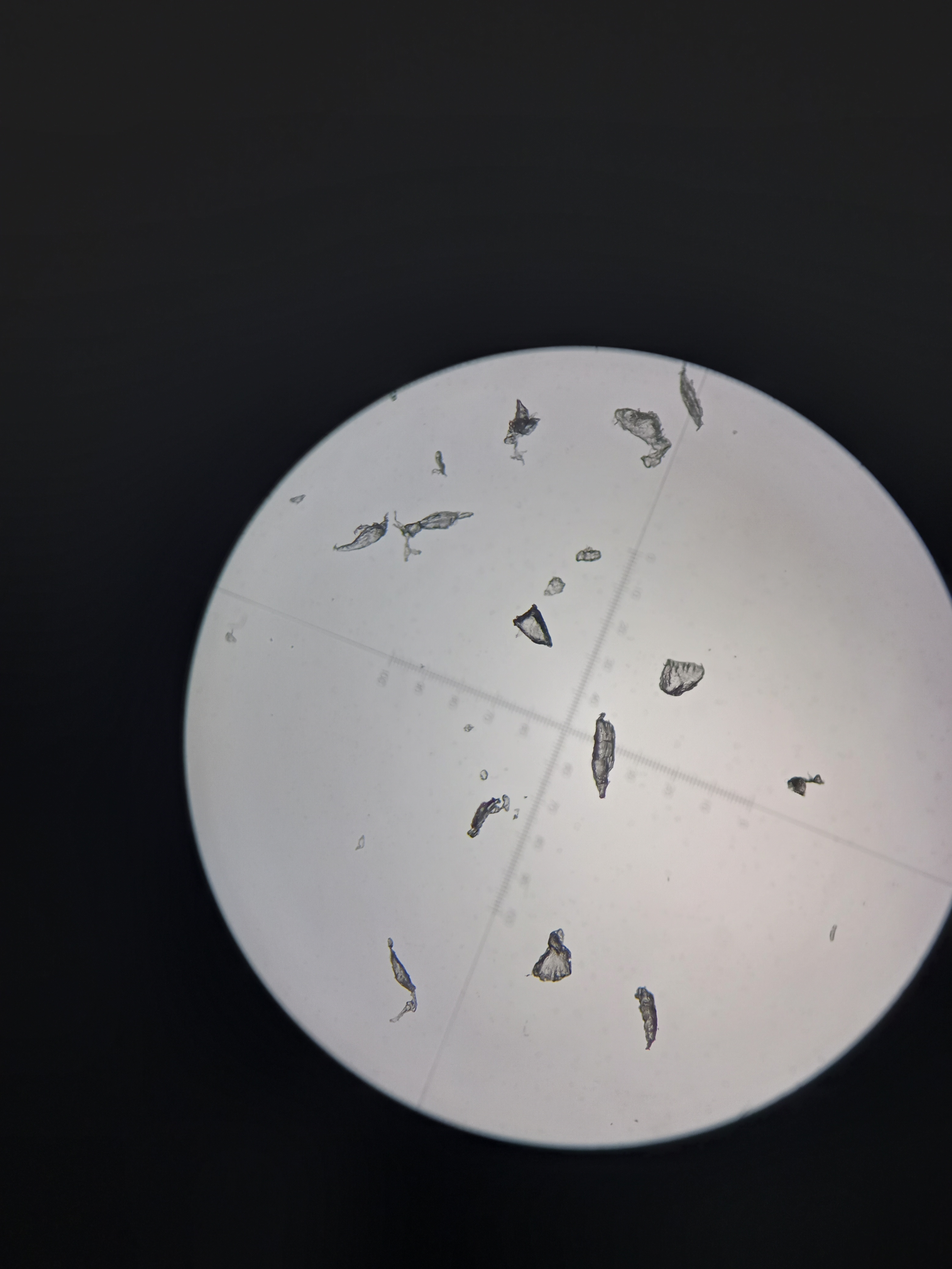microplastic: (394, 510, 476, 563), (612, 405, 672, 467), (384, 937, 420, 1023), (525, 927, 575, 985), (503, 397, 540, 466), (334, 514, 391, 555), (592, 711, 618, 800), (469, 794, 514, 841), (658, 657, 709, 698), (676, 365, 707, 431), (632, 984, 662, 1050), (514, 602, 555, 649), (783, 773, 828, 797), (543, 576, 566, 597), (576, 547, 603, 564), (432, 451, 448, 479), (223, 624, 237, 645), (355, 833, 368, 854), (828, 923, 838, 945), (290, 493, 307, 504), (480, 768, 489, 782), (464, 724, 474, 734)
